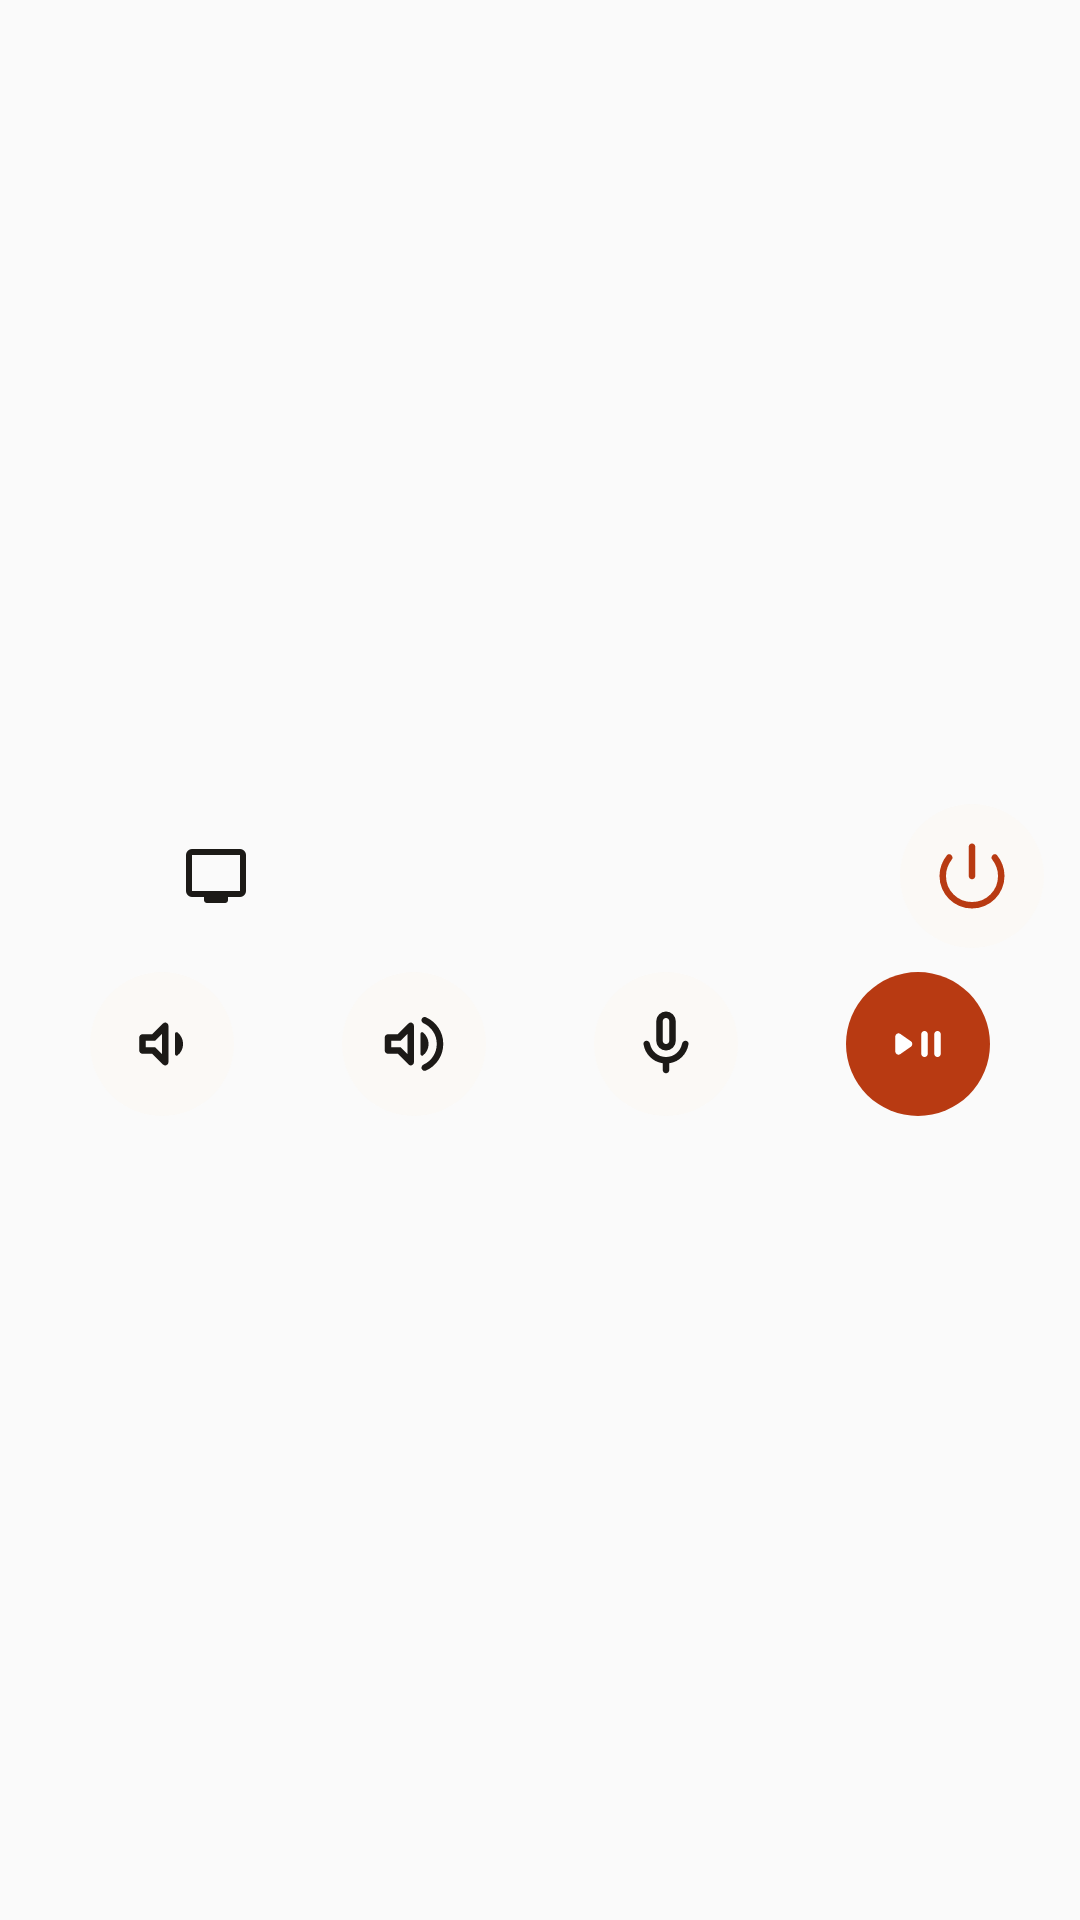

Icon bounding boxes for this 1080px x 1920px phone screenshot, format {"left": x1, "top": y1, "right": x2, "bottom": y2}:
sym mic: {"left": 643, "top": 1011, "right": 689, "bottom": 1074}
sym play pause: {"left": 846, "top": 972, "right": 990, "bottom": 1116}
sym power settings: {"left": 939, "top": 843, "right": 1005, "bottom": 909}
sym tv: {"left": 186, "top": 849, "right": 246, "bottom": 903}
sym volume down: {"left": 139, "top": 1022, "right": 183, "bottom": 1066}
sym volume up: {"left": 384, "top": 1017, "right": 444, "bottom": 1071}
